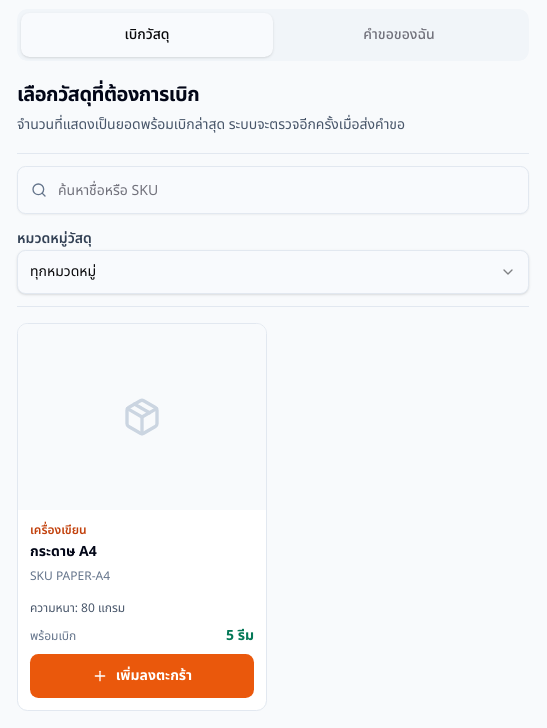
LIFF Stock app orchestration › keeps the newest catalog result and error state when older responses finish later
Expected: the heading "กระดาษ A4" is shown, left=30, top=541, right=97, bottom=562
Type "กา" into the search field named "ค้นหาวัสดุ". click: coordinates (273, 190)
box: left=17, top=166, right=529, bottom=214
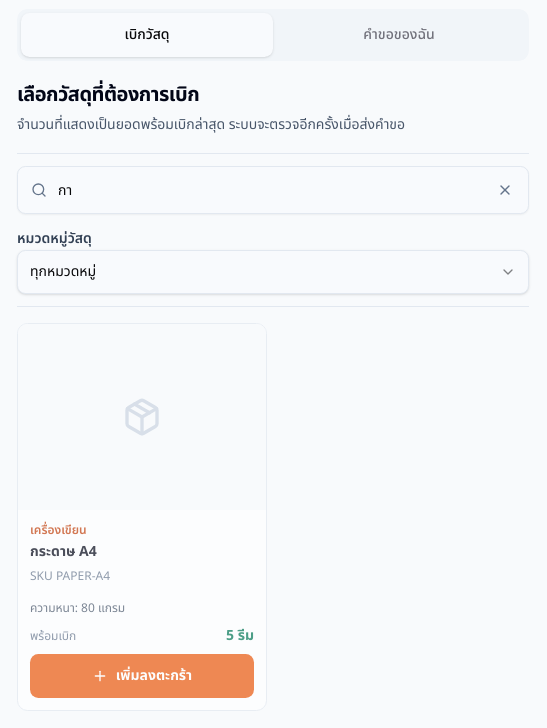
Replace the text in the search field named "ค้นหาวัสดุ" with "กระดาษ". click: coordinates (273, 190)
box: left=17, top=166, right=529, bottom=214
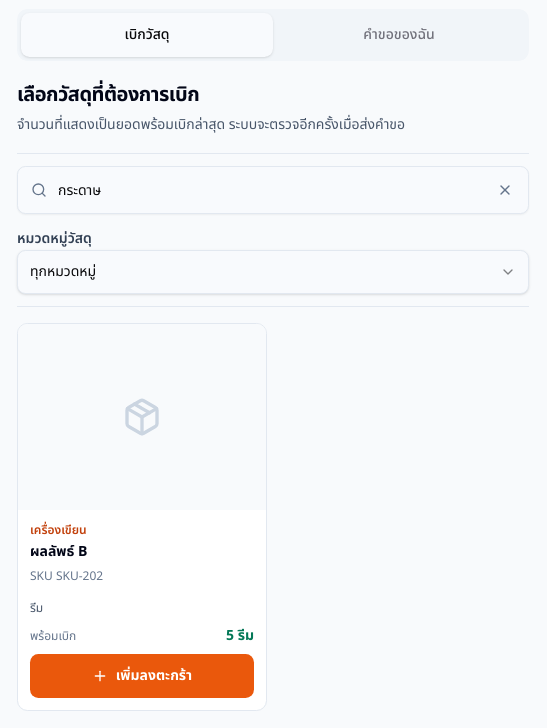
Expected: the heading "ผลลัพธ์ B" is shown, left=30, top=541, right=87, bottom=562
